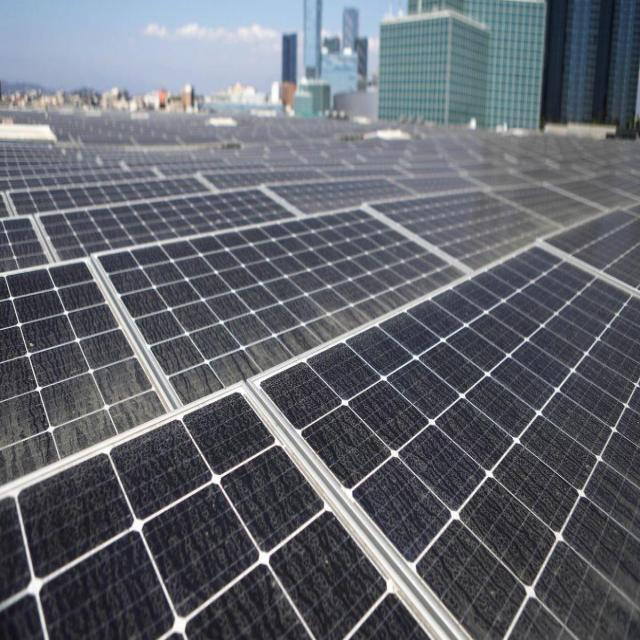soiled: (2, 179, 640, 640)
